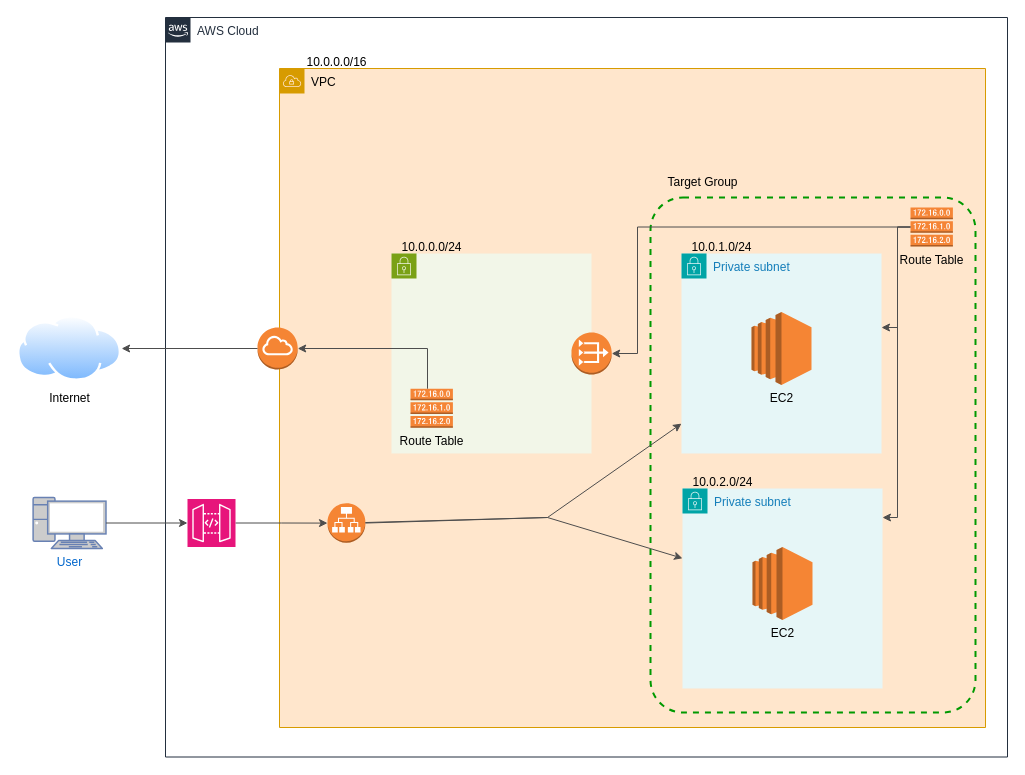
Image size: 1025x775. Some labels were removed from this diagram. Each missing label, with the box of its shape:
API GW: (186, 498, 236, 547)
IGW: (256, 326, 298, 370)
NAT GW: (570, 332, 612, 374)
Public subnet: (390, 252, 592, 454)
